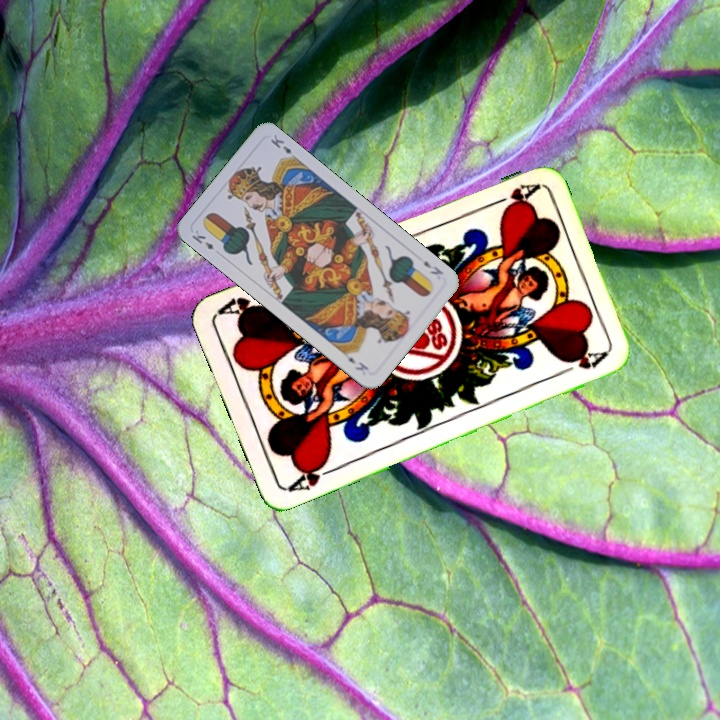EK: (187, 226, 217, 253), (419, 256, 446, 277)
HA: (284, 456, 341, 495), (484, 179, 541, 215)
